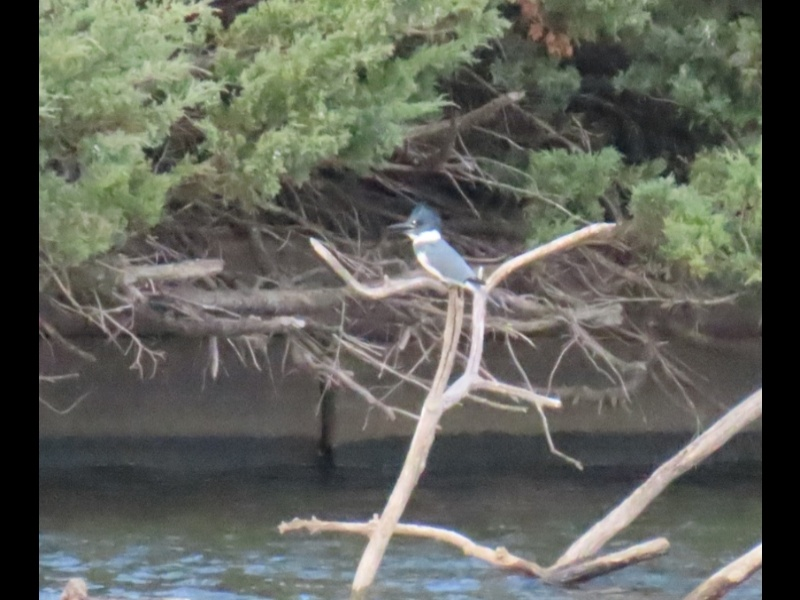kingfisher: (385, 202, 489, 298)
